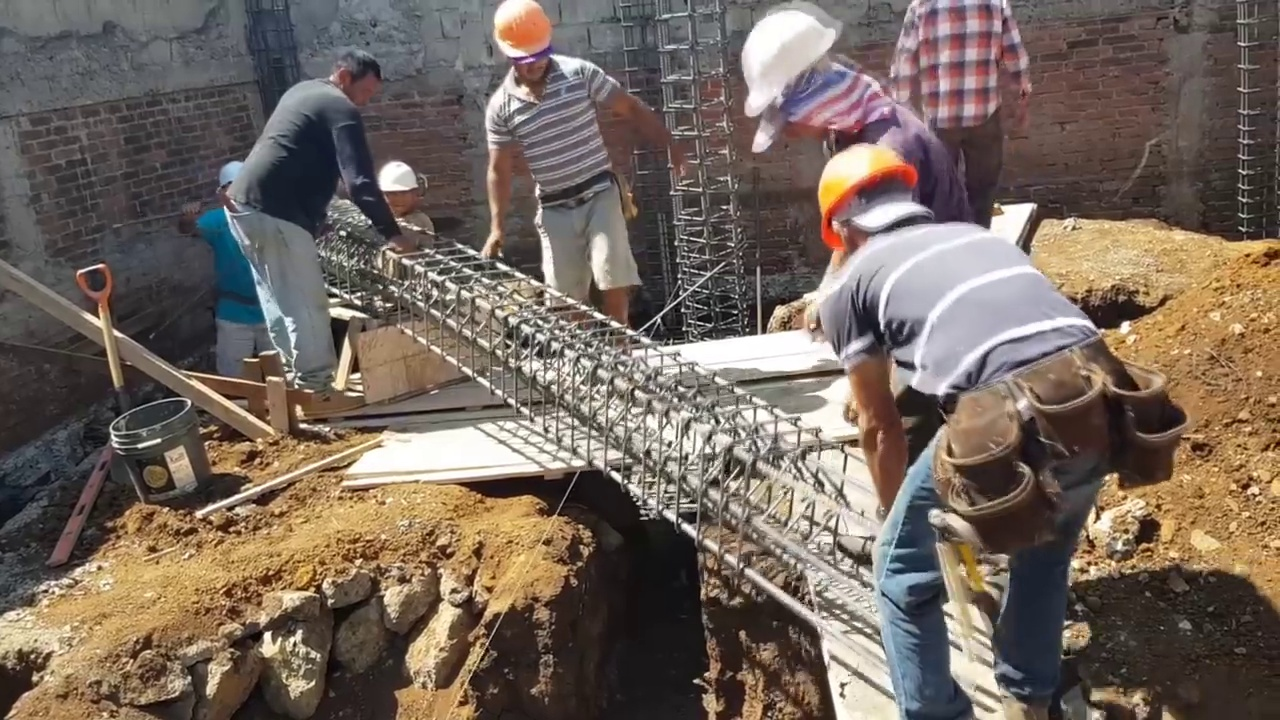helmet: (814, 145, 920, 250), (740, 5, 837, 117), (490, 0, 553, 58), (377, 160, 420, 194), (216, 160, 244, 187)
helmet-off: (324, 50, 379, 103)
helmet-on: (739, 0, 882, 131), (815, 132, 934, 277), (492, 0, 554, 78), (377, 161, 421, 217), (216, 160, 247, 216)
person: (779, 145, 1159, 720), (480, 0, 691, 327), (221, 50, 410, 413), (706, 2, 968, 219), (891, 0, 1028, 227), (184, 160, 277, 379), (377, 159, 436, 248)
